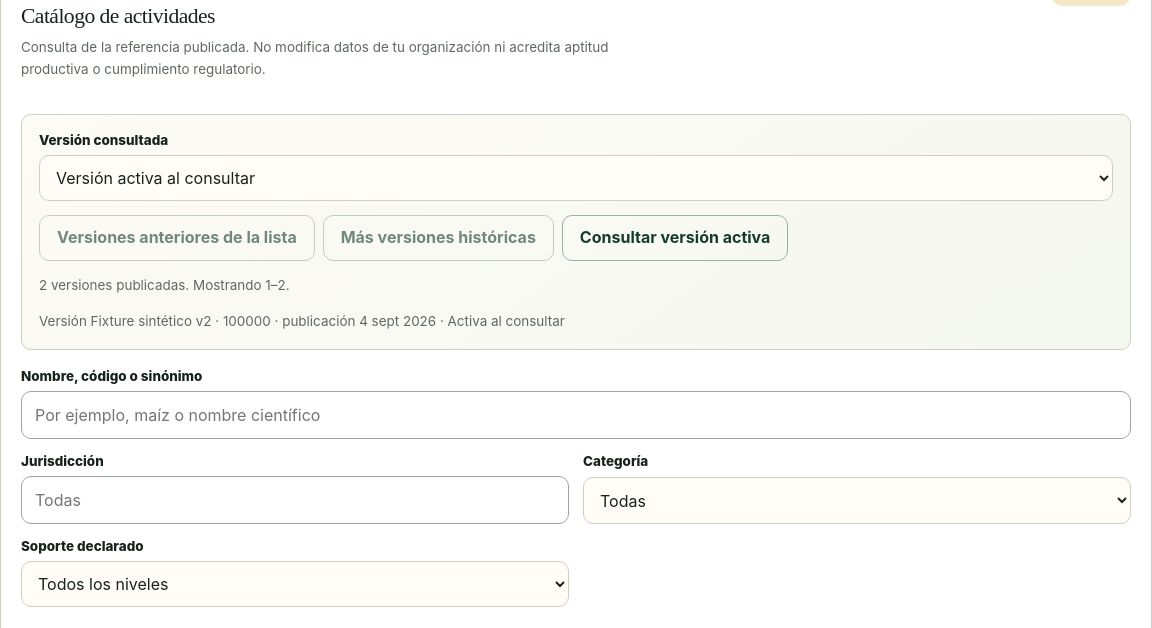
Test: CatalogReader › selects immutable history through opaque DOM options and can explicitly return to active
The image size is (1152, 628).
Select "Fixture sintético v1 · 200000 · histórica" in the dropdown labelled "Versión consultada". click: coordinates (576, 178)
box: [39, 155, 1113, 201]
Wait 300 ms
(page scrolled)
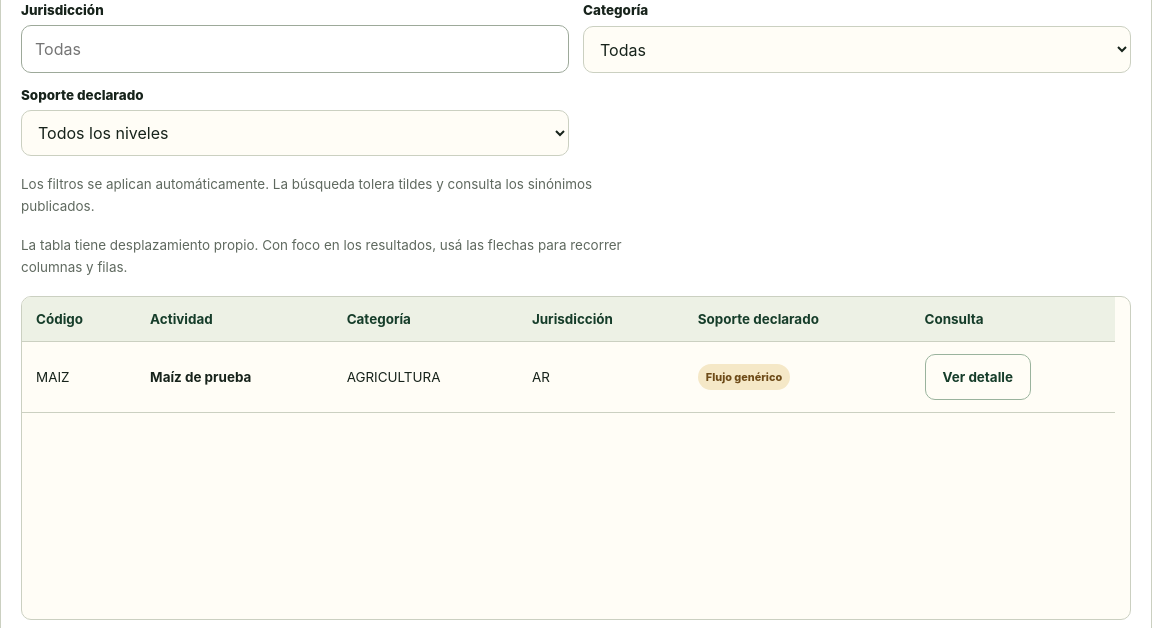
Click the button with aria-label "Ver detalle de Maíz". click: coordinates (978, 377)
box: [924, 354, 1031, 400]
(page scrolled)
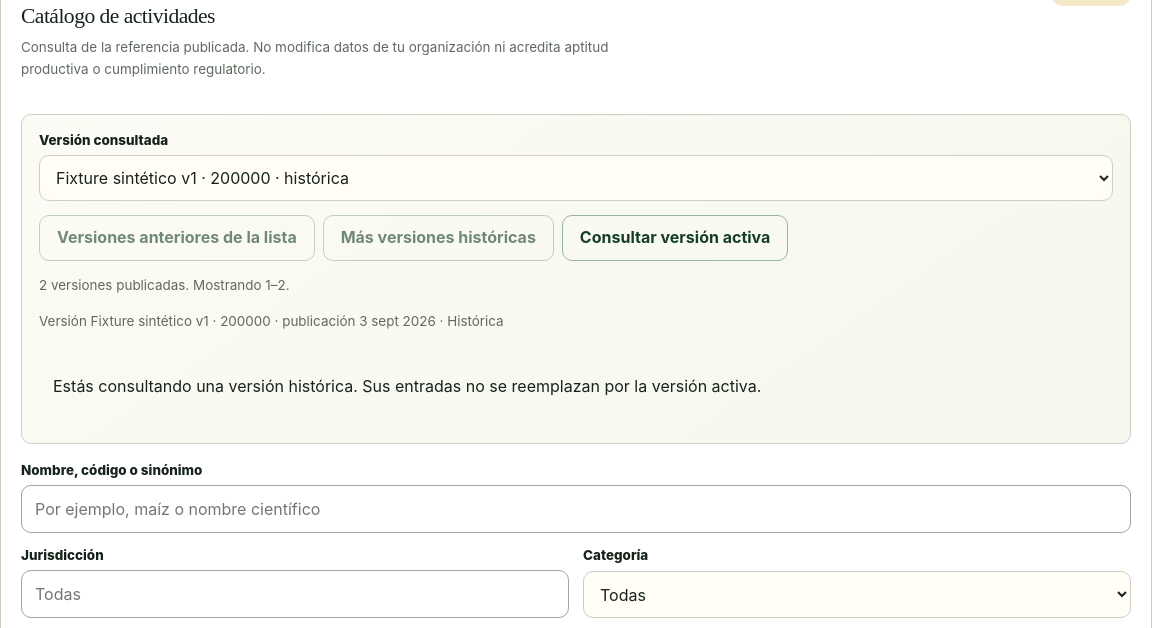
Click the button "Consultar versión activa". click: coordinates (675, 238)
box: [562, 215, 788, 261]
Wait 300 ms
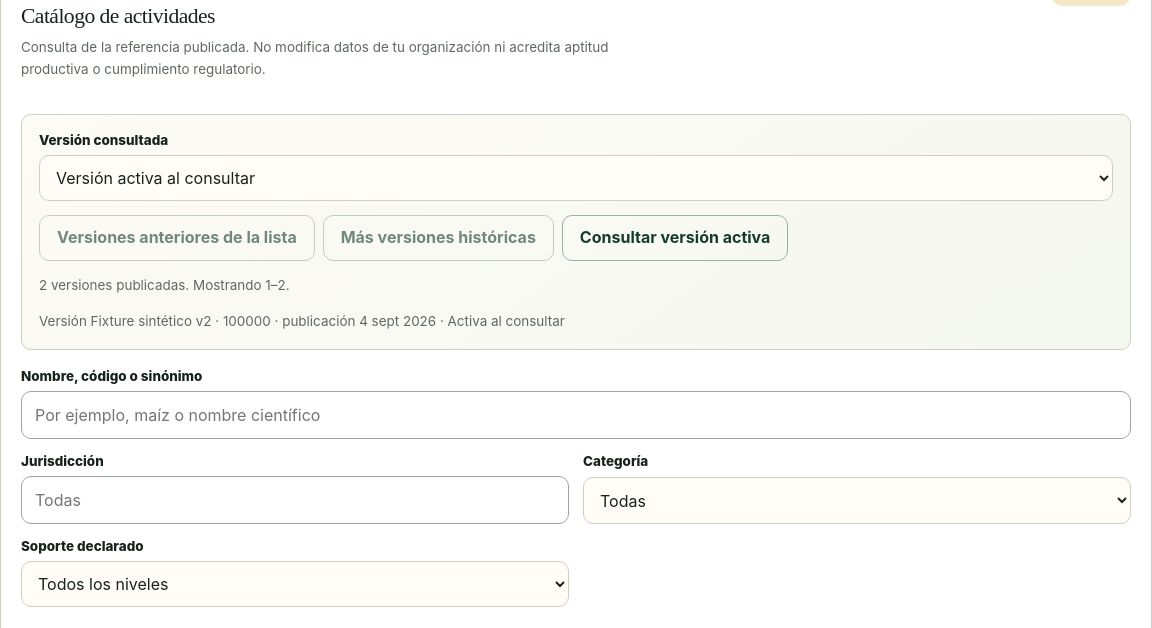
expect the text "Estás consultando una versión histórica" is gone: met
